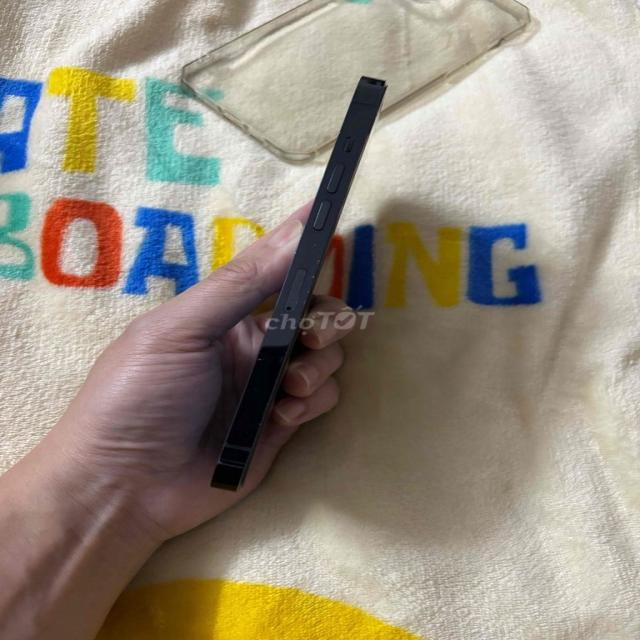gen_12_13: (204, 70, 392, 497)
scratch: (278, 231, 326, 359)
